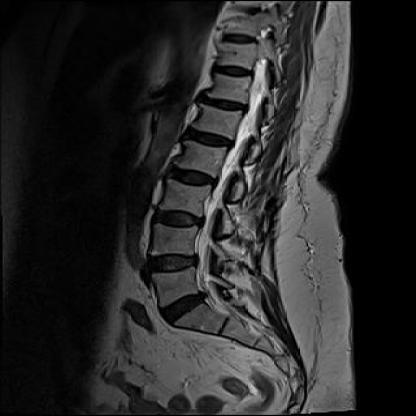Disc Bulgerotation: (156, 292, 217, 320)
Disc Relaxationrotation: (163, 165, 223, 192), (143, 249, 200, 276), (150, 205, 207, 232)
